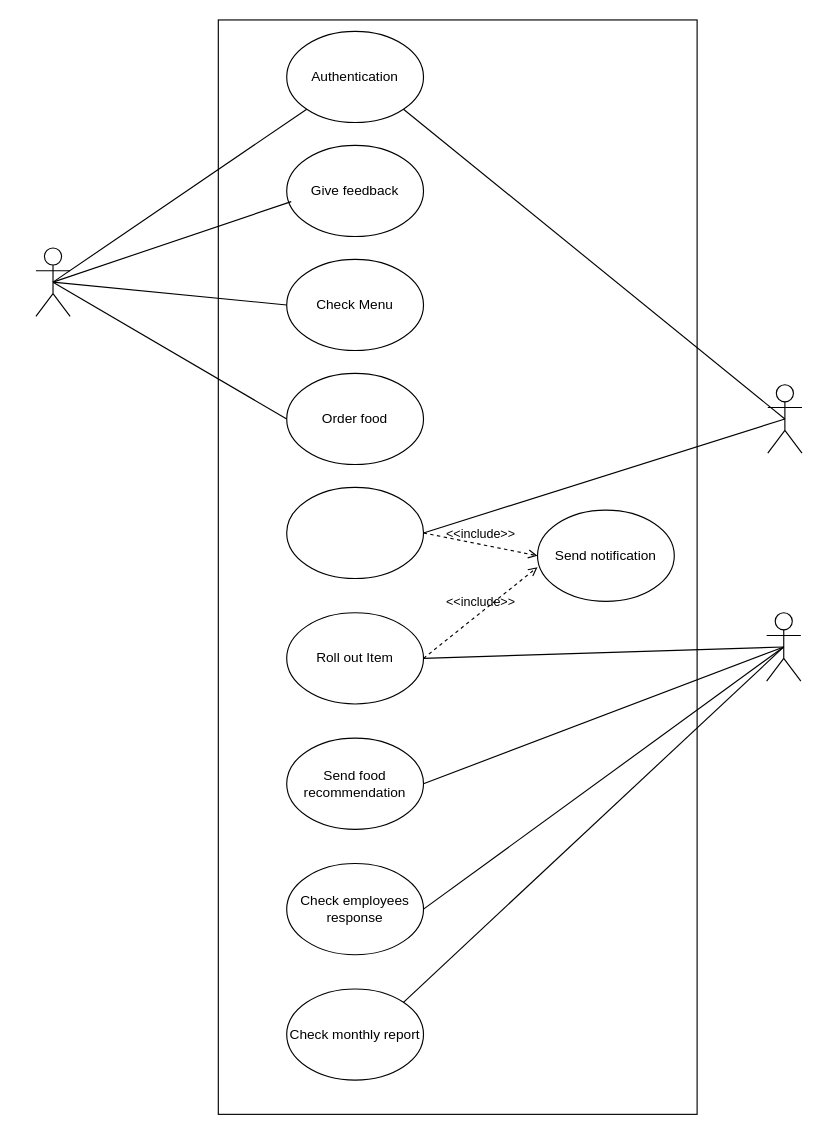
The diagram is 824 pixels wide and 1134 high, and some of its shapes have lost their labels. The shapes that lost their labels are listed below. From the top down, each one's centre as x and y in pixels, then its label:
point 52,281: Employees
point 784,418: Admin
point 355,532: Manage Menu
point 783,646: Chef
